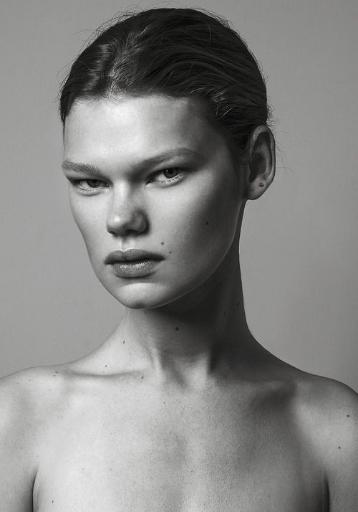left_eye: (146, 164, 198, 190)
left_lip_corner: (155, 252, 171, 272)
right_eye: (70, 176, 111, 196)
right_lip_corner: (103, 258, 115, 275)
